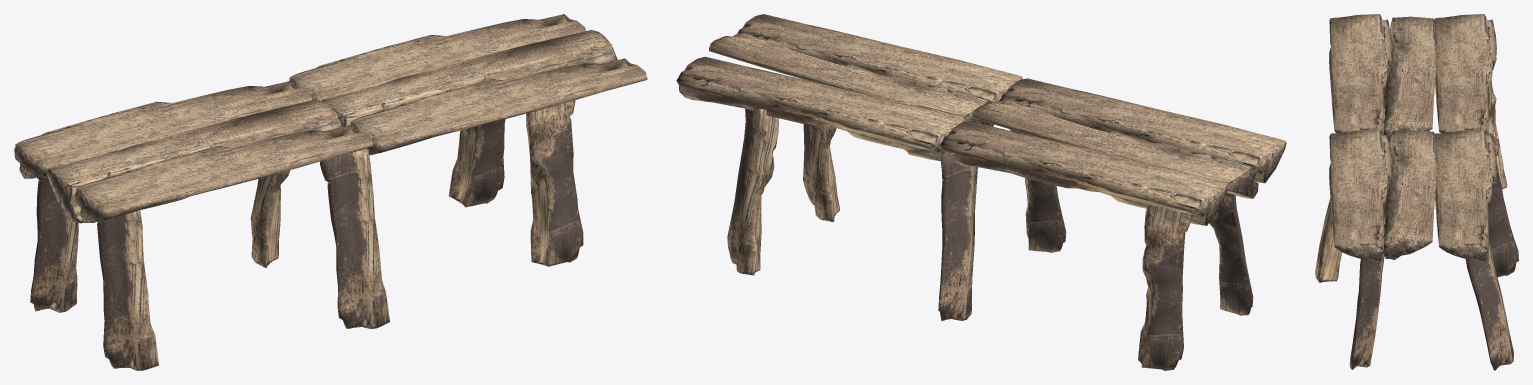
Rendered from Table2.fbx.
3 views of the same model, side by side, from view 1: azimuth 30°, elevation 25°; view 2: azimuth 150°, elevation 25°; view 3: azimuth 270°, elevation 25° (orthographic). The views are drawn at different scales.
Visible parts, largest first — view 1: table2_lod0; view 2: table2_lod0; view 3: table2_lod0.
Part boxes in pixels (x1,y1,x2,y2): table2_lod0: [14, 14, 647, 370]; table2_lod0: [676, 14, 1286, 370]; table2_lod0: [1315, 14, 1518, 370].
Size of what is drawn, in the model's own units: 330 by 107 by 123.
